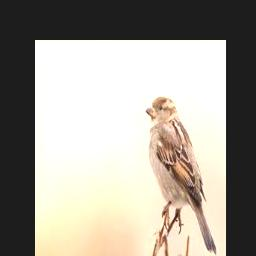Sparrow: (145, 97, 216, 254)
